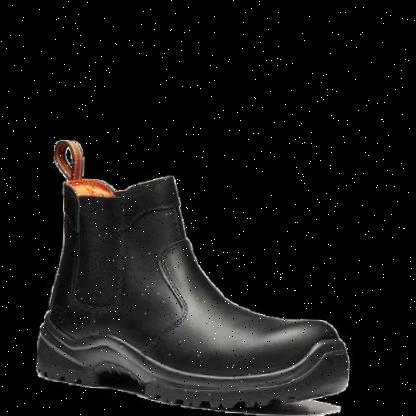bota: (36, 134, 357, 413)
